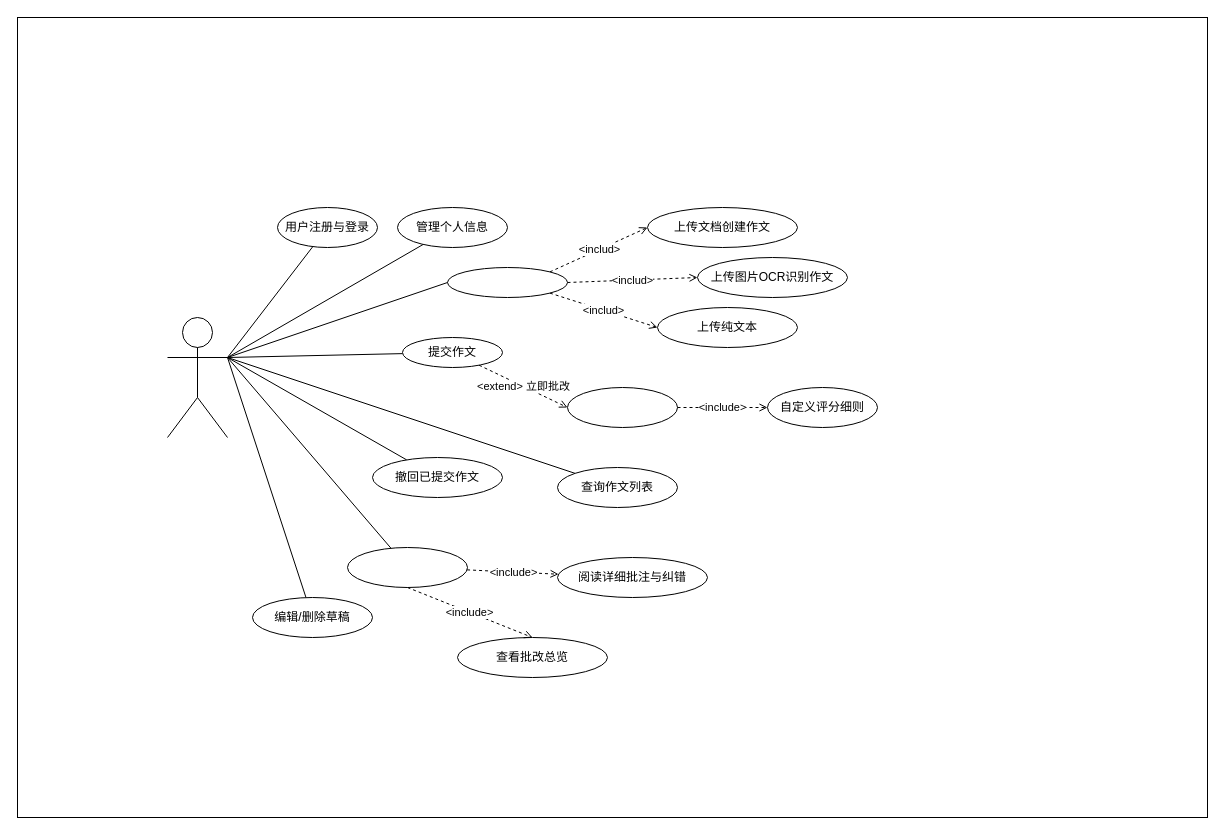
Some shapes in this 1225 by 835 pixel diagram are drawn without their labels. The shapes that lost their labels are listed below. From the top down, each one's centre as x and y in pixels, then its label:
At (x=507, y=282): "创建作文草稿".
At (x=197, y=377): "学生用户".
At (x=622, y=407): "发起智能批改".
At (x=407, y=567): "查看批改结果".
